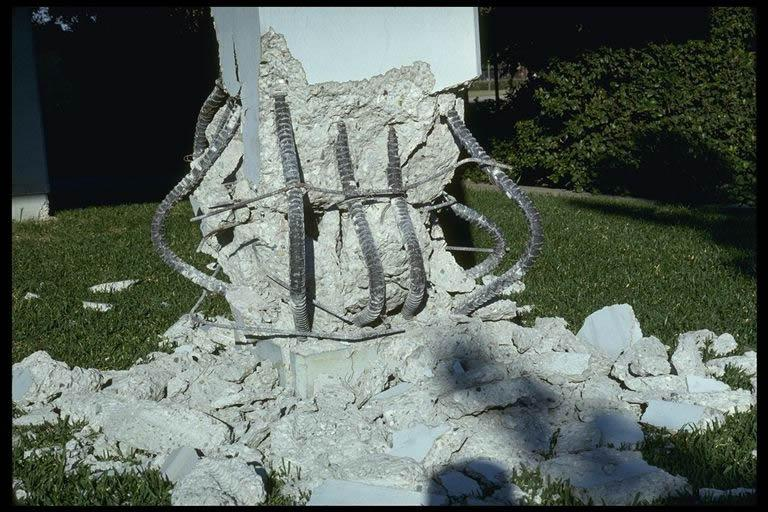exposed_rebar: (446, 110, 543, 314), (152, 80, 240, 293), (336, 122, 386, 326), (274, 94, 310, 332), (387, 124, 426, 319), (450, 202, 506, 278)
spalling: (153, 32, 543, 343)
